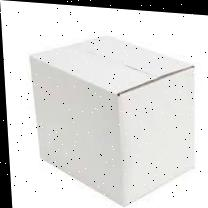cube: (28, 30, 202, 208)
